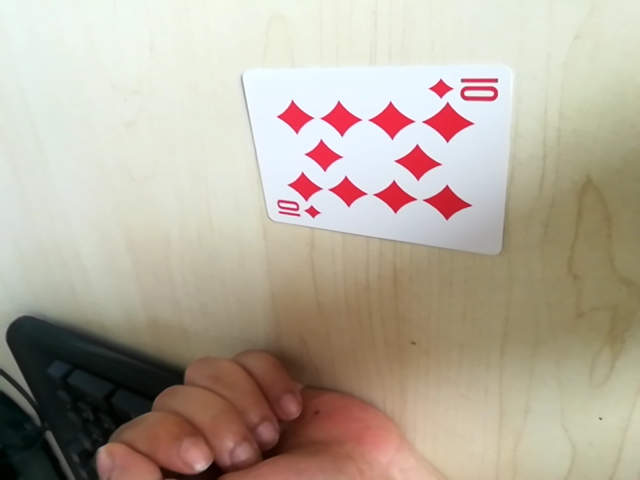fk 10: (428, 68, 505, 105), (270, 196, 324, 226)
